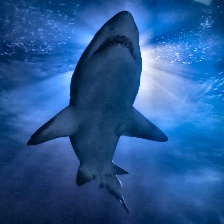shark: (26, 11, 169, 223)
